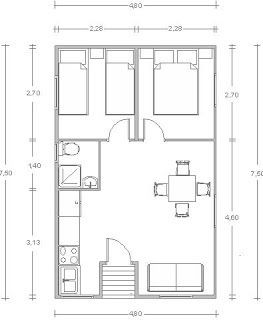door: (100, 235, 136, 263), (106, 115, 134, 146), (141, 116, 167, 145)
room: (58, 140, 218, 295), (56, 45, 139, 143), (138, 51, 215, 145)
wall: (54, 42, 216, 52), (53, 166, 61, 298), (212, 107, 219, 194), (133, 45, 139, 140), (55, 185, 102, 194), (212, 227, 217, 298), (55, 137, 110, 143), (165, 138, 216, 144), (96, 261, 104, 299), (53, 108, 62, 140), (97, 140, 102, 191), (51, 45, 59, 76), (133, 262, 140, 296), (211, 45, 218, 70), (192, 294, 219, 300)
window: (52, 78, 62, 107), (211, 75, 218, 105), (212, 198, 219, 228), (160, 294, 189, 300)
